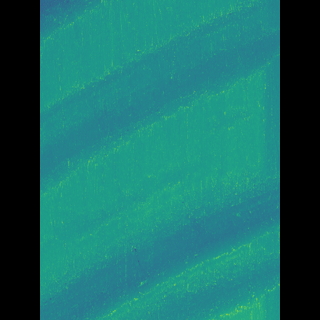Loch: (69, 0, 251, 209), (69, 170, 250, 320)
